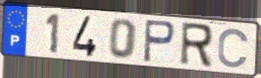0: (108, 17, 138, 61)
1: (44, 12, 61, 55)
4: (71, 15, 98, 58)
C: (216, 27, 251, 70)
P: (141, 18, 177, 65)
R: (178, 21, 215, 70)
